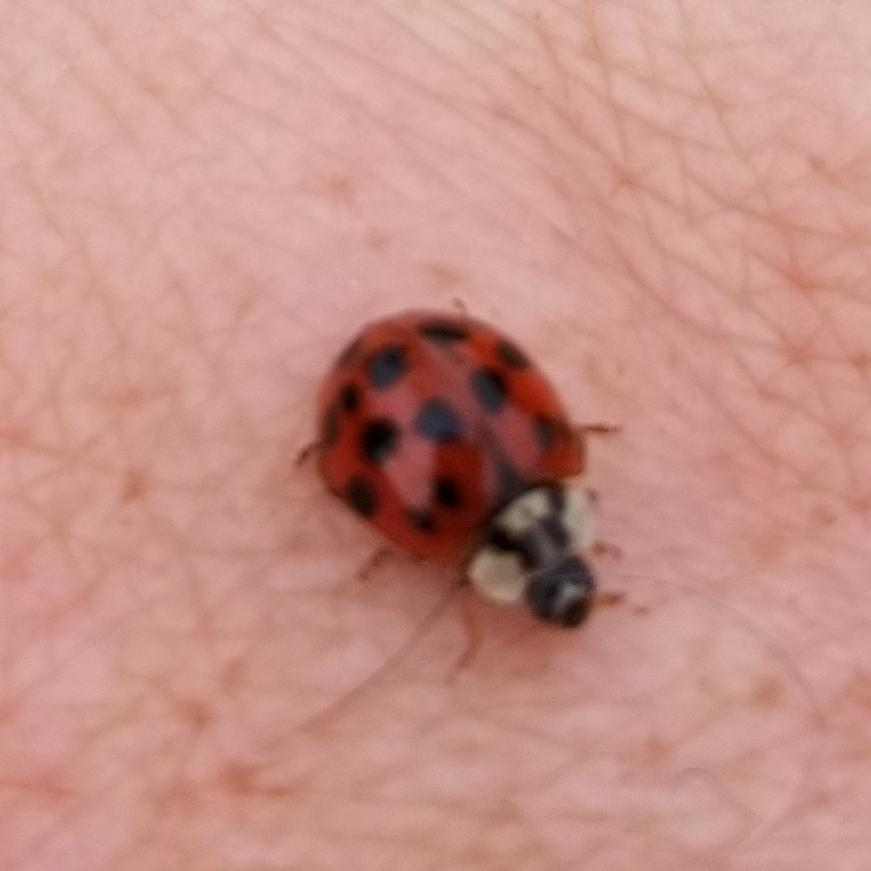ladybug: (286, 296, 636, 694)
